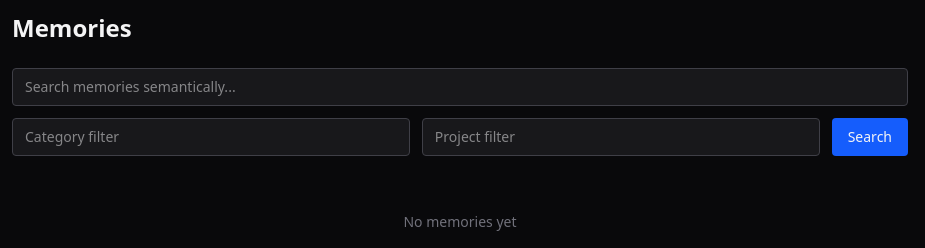
Test: MemorySearch › shows no results message when search returns empty
Type "nonexistent" into the field with placeholder "Search memories semantically..." at (460, 87), box [12, 68, 908, 106]
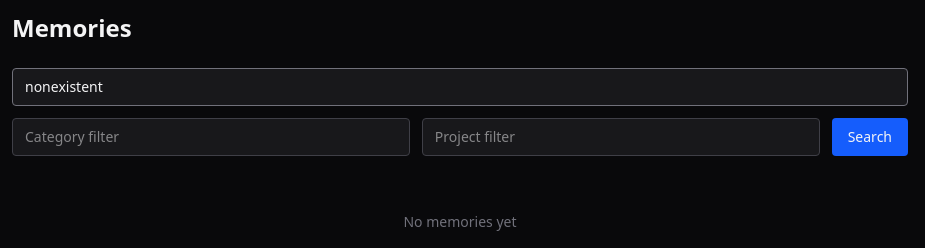
Click the button "Search" at (870, 137), box [832, 118, 908, 156]
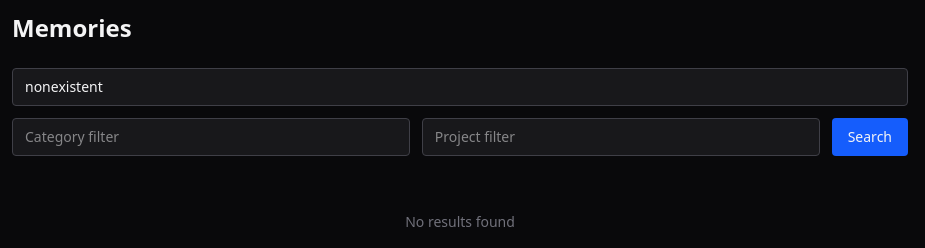
Now the text "No results found" is shown, box [405, 212, 515, 231]
